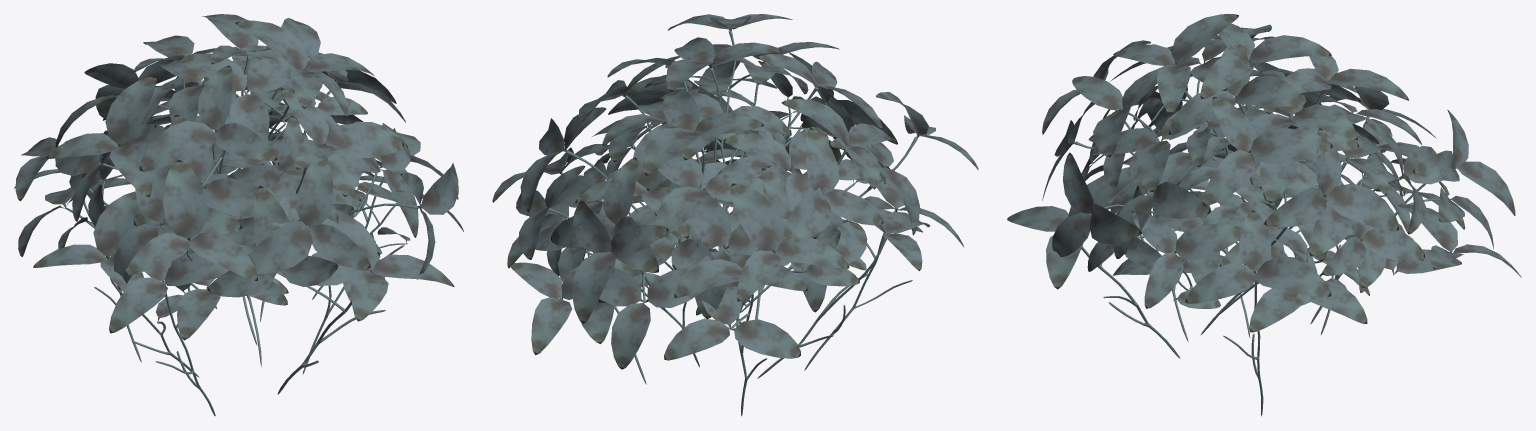
The picture shows the model from 3 angles, left to right: view 1: azimuth 30°, elevation 25°; view 2: azimuth 150°, elevation 25°; view 3: azimuth 270°, elevation 25°; orthographic projection. The views are drawn at different scales.
Parts seen in each view (by area): view 1: Leaves, Branch; view 2: Leaves, Branch; view 3: Leaves, Branch.
Part boxes in pixels (box(x1,y1,x2,y2)): Leaves: box(14, 14, 463, 340); Branch: box(65, 56, 417, 416); Leaves: box(492, 14, 978, 369); Branch: box(548, 31, 917, 416); Leaves: box(1007, 14, 1521, 332); Branch: box(1075, 63, 1439, 416).
Size of the model in its own units: 25.06 by 22.38 by 28.56.
